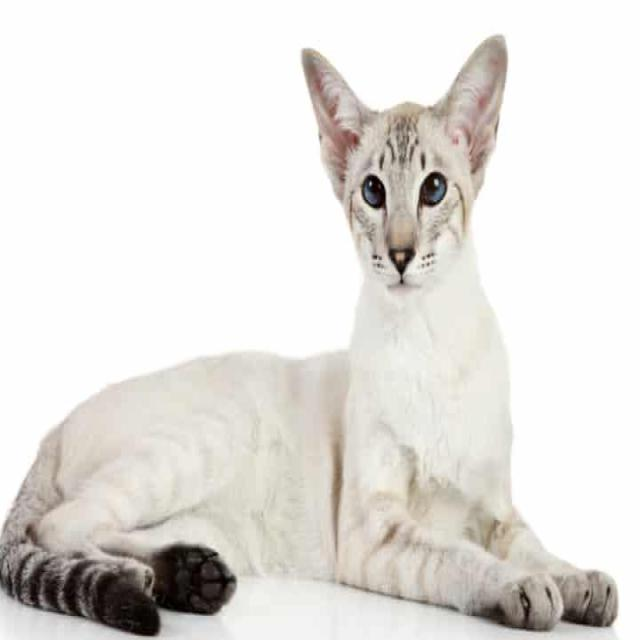Oriental: (0, 29, 621, 639)
